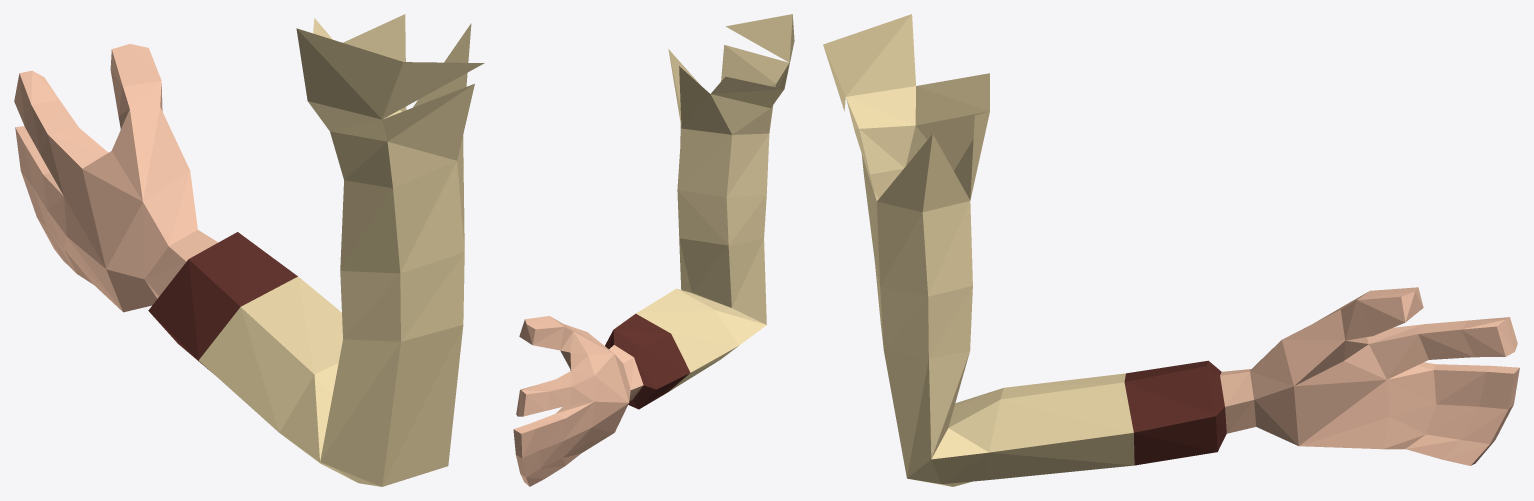
File: SchoolGirl_01_ArmL_96_02_A.obj
The picture shows the model from 3 angles, left to right: view 1: azimuth 30°, elevation 25°; view 2: azimuth 150°, elevation 25°; view 3: azimuth 270°, elevation 25°; orthographic projection. The views are drawn at different scales.
Parts seen in each view (by area): view 1: SchoolGirl_01_ArmL_96_02_A; view 2: SchoolGirl_01_ArmL_96_02_A; view 3: SchoolGirl_01_ArmL_96_02_A.
Boxes of the visible parts, left/top/right/bottom form: SchoolGirl_01_ArmL_96_02_A: left=14, top=14, right=484, bottom=486; SchoolGirl_01_ArmL_96_02_A: left=513, top=14, right=794, bottom=486; SchoolGirl_01_ArmL_96_02_A: left=823, top=14, right=1519, bottom=486.
Size of the model in its own units: 0.1566 by 0.3998 by 0.5919.
Materials: 1 (1 with a texture image).
